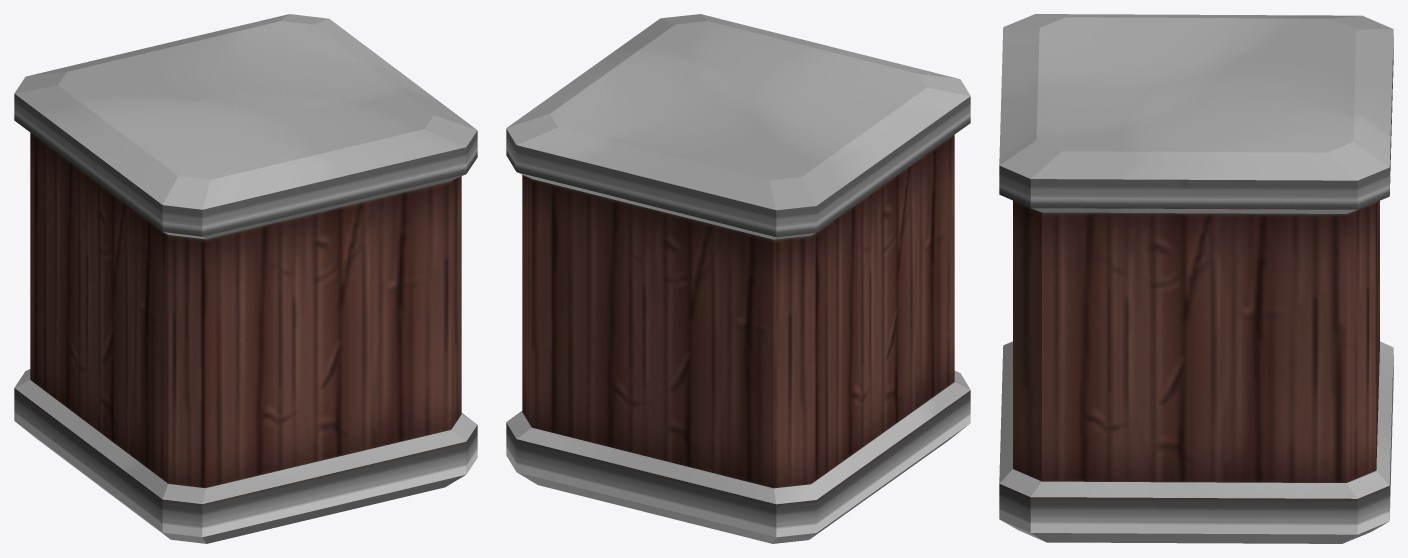
File: Crate 2.fbx
3 views of the same model, side by side, from view 1: azimuth 30°, elevation 25°; view 2: azimuth 150°, elevation 25°; view 3: azimuth 270°, elevation 25° (orthographic). The views are drawn at different scales.
Visible parts, largest first — view 1: pCube125; view 2: pCube125; view 3: pCube125.
Part boxes in pixels (x1=…): pCube125: x1=14, y1=14, x2=477, y2=543; pCube125: x1=506, y1=14, x2=970, y2=543; pCube125: x1=999, y1=14, x2=1393, y2=543.
Size of the model in its own units: 1.18 by 1.26 by 1.18.
